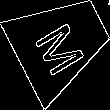M_NE: (31, 10, 92, 75)
